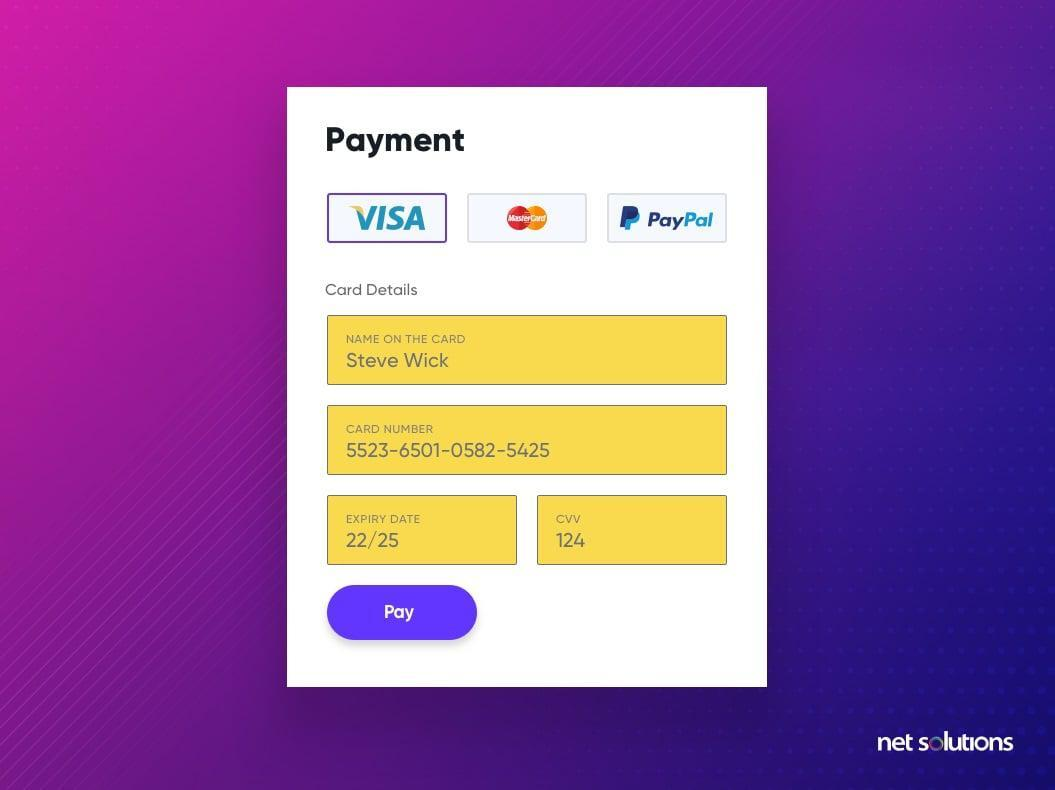button: (328, 585, 479, 643), (611, 194, 730, 245), (329, 193, 448, 243), (469, 195, 587, 244)
input: (327, 407, 727, 479), (329, 318, 730, 388), (329, 498, 518, 569), (538, 499, 728, 567)
label: (325, 280, 429, 307)
